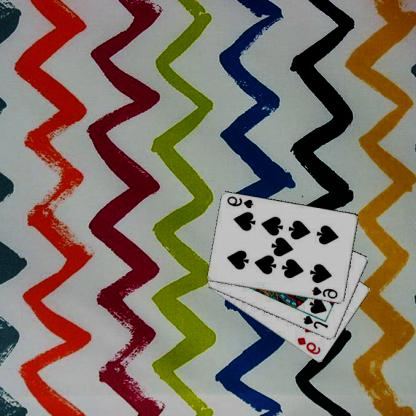6D: (296, 335, 324, 356)
9S: (226, 194, 256, 210), (311, 285, 341, 300)
JS: (302, 313, 332, 330)
